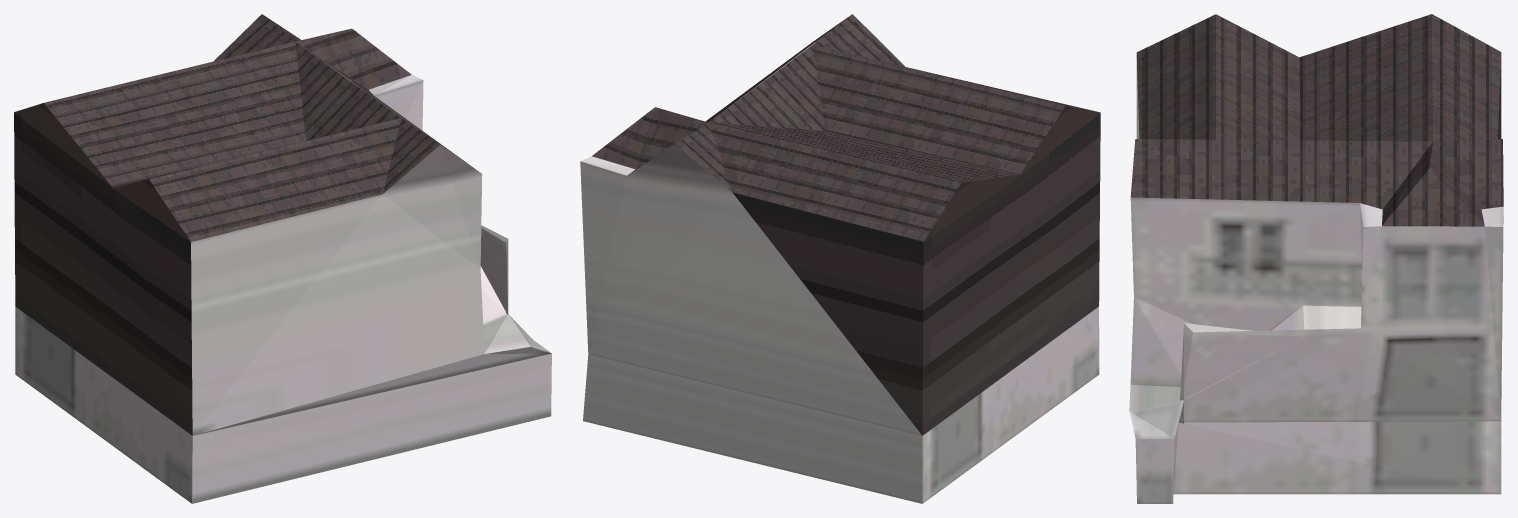
Rendered from lod_hse_03_sfxrf.obj.
3 renders of one model, left to right at view 1: azimuth 30°, elevation 25°; view 2: azimuth 150°, elevation 25°; view 3: azimuth 270°, elevation 25°, orthographic. The views are drawn at different scales.
Parts seen in each view (by area): view 1: LOD_hse_03_SFXRF; view 2: LOD_hse_03_SFXRF; view 3: LOD_hse_03_SFXRF.
Part boxes in pixels (x1,y1,x2,y2): LOD_hse_03_SFXRF: (14,14,551,503); LOD_hse_03_SFXRF: (580,14,1100,503); LOD_hse_03_SFXRF: (1129,14,1503,503).
Bounding box in the file's own units: 11.21 × 8.8 × 9.67.
Materials: 3 (3 with a texture image).
